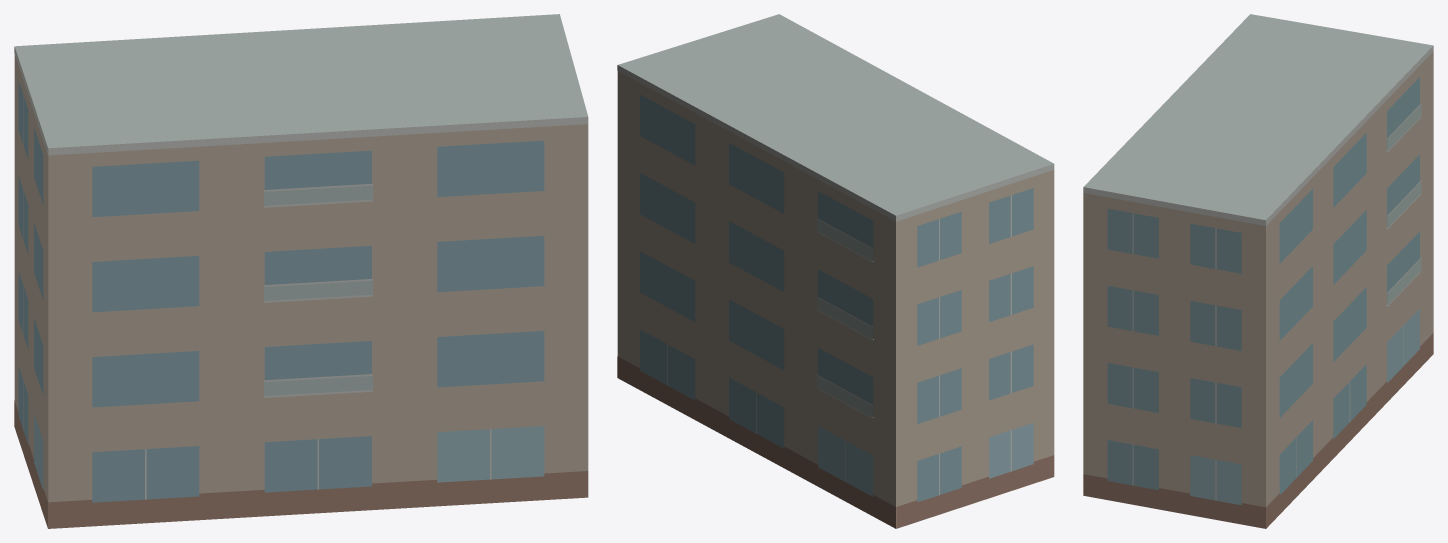
The model's file is survey-upis-32733348.glb.
3 renders of one model, left to right at view 1: azimuth 30°, elevation 25°; view 2: azimuth 150°, elevation 25°; view 3: azimuth 270°, elevation 25°, orthographic. The views are drawn at different scales.
Parts seen in each view (by area): view 1: survey-upis-32733348.tmp; view 2: survey-upis-32733348.tmp; view 3: survey-upis-32733348.tmp.
Boxes of the visible parts, <box> form: survey-upis-32733348.tmp: <box>14,14,588,528</box>; survey-upis-32733348.tmp: <box>617,14,1054,528</box>; survey-upis-32733348.tmp: <box>1083,14,1433,528</box>.
Size of the model in its own units: 18.65 by 13 by 13.38.
